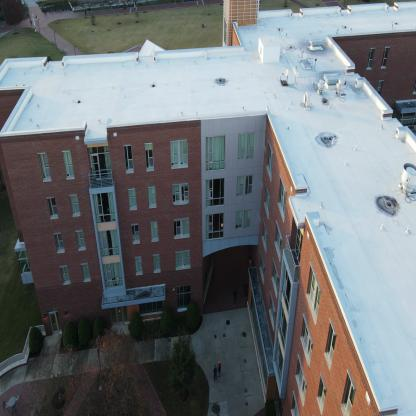Wolf Ridge: (1, 41, 415, 415)
